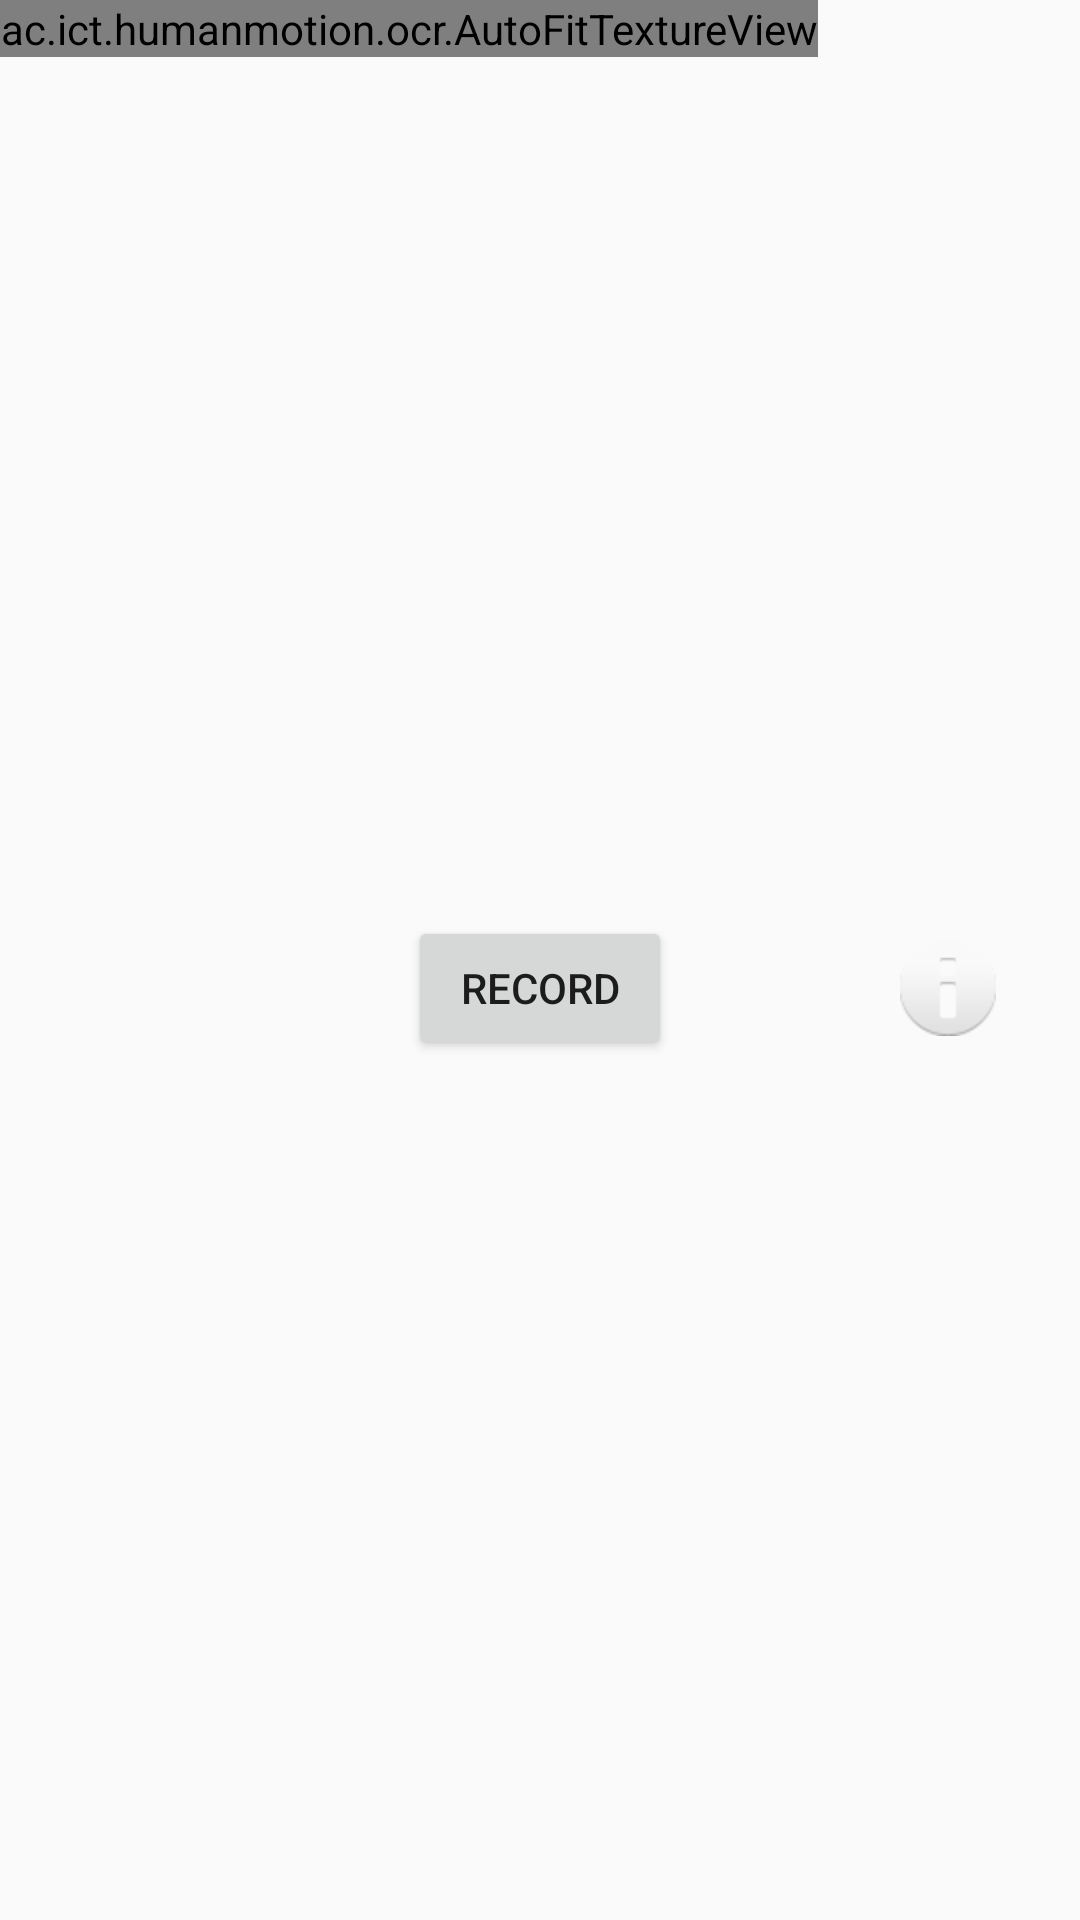

Locate icon controls on the screen. Image size 1080*1920, boxes as (x1, y1, x2, y2).
Info: (900, 958, 996, 1036)
